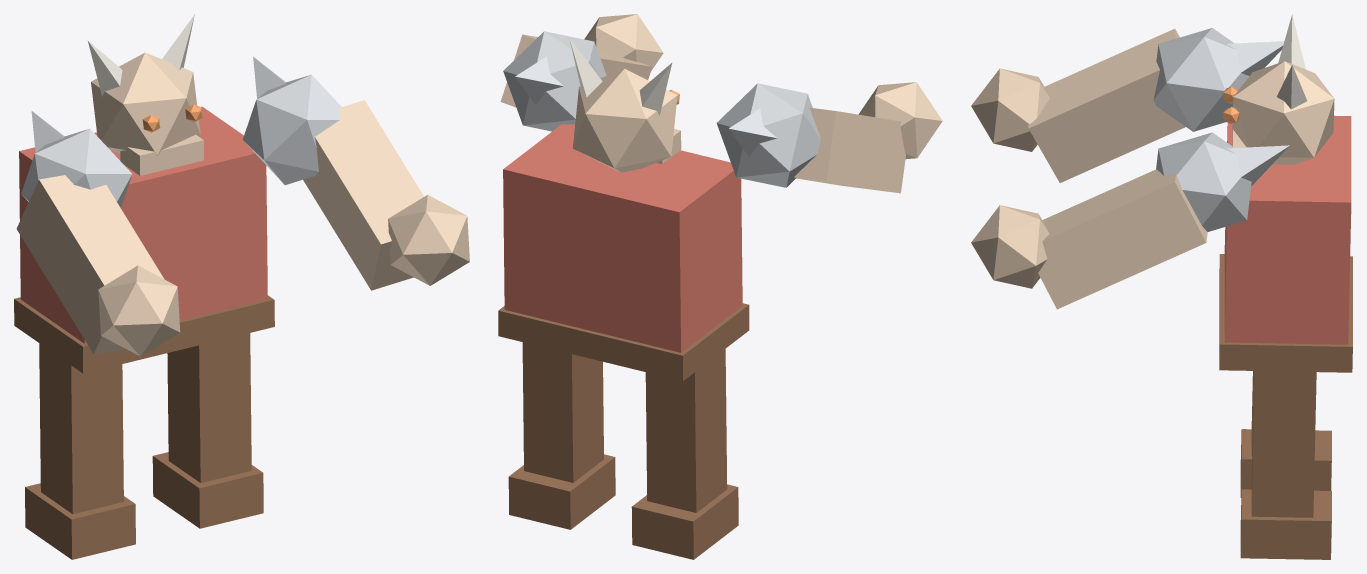
File: npcpose_brute_attack_06.glb
3 views of the same model, side by side, from view 1: azimuth 30°, elevation 25°; view 2: azimuth 150°, elevation 25°; view 3: azimuth 270°, elevation 25° (orthographic). The views are drawn at different scales.
Visible parts, largest first — view 1: npcpose; view 2: npcpose; view 3: npcpose.
Boxes of the visible parts, box(x1,y1,x2,y2) form: npcpose: box(14, 14, 469, 559); npcpose: box(498, 14, 942, 559); npcpose: box(971, 14, 1352, 559).
Size of the model in its own units: 1.43 by 1.85 by 1.35.
